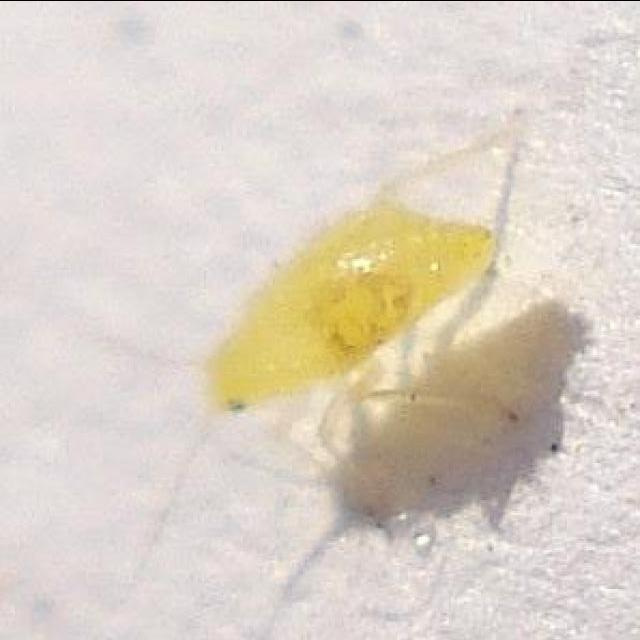aphid: (138, 83, 562, 534)
